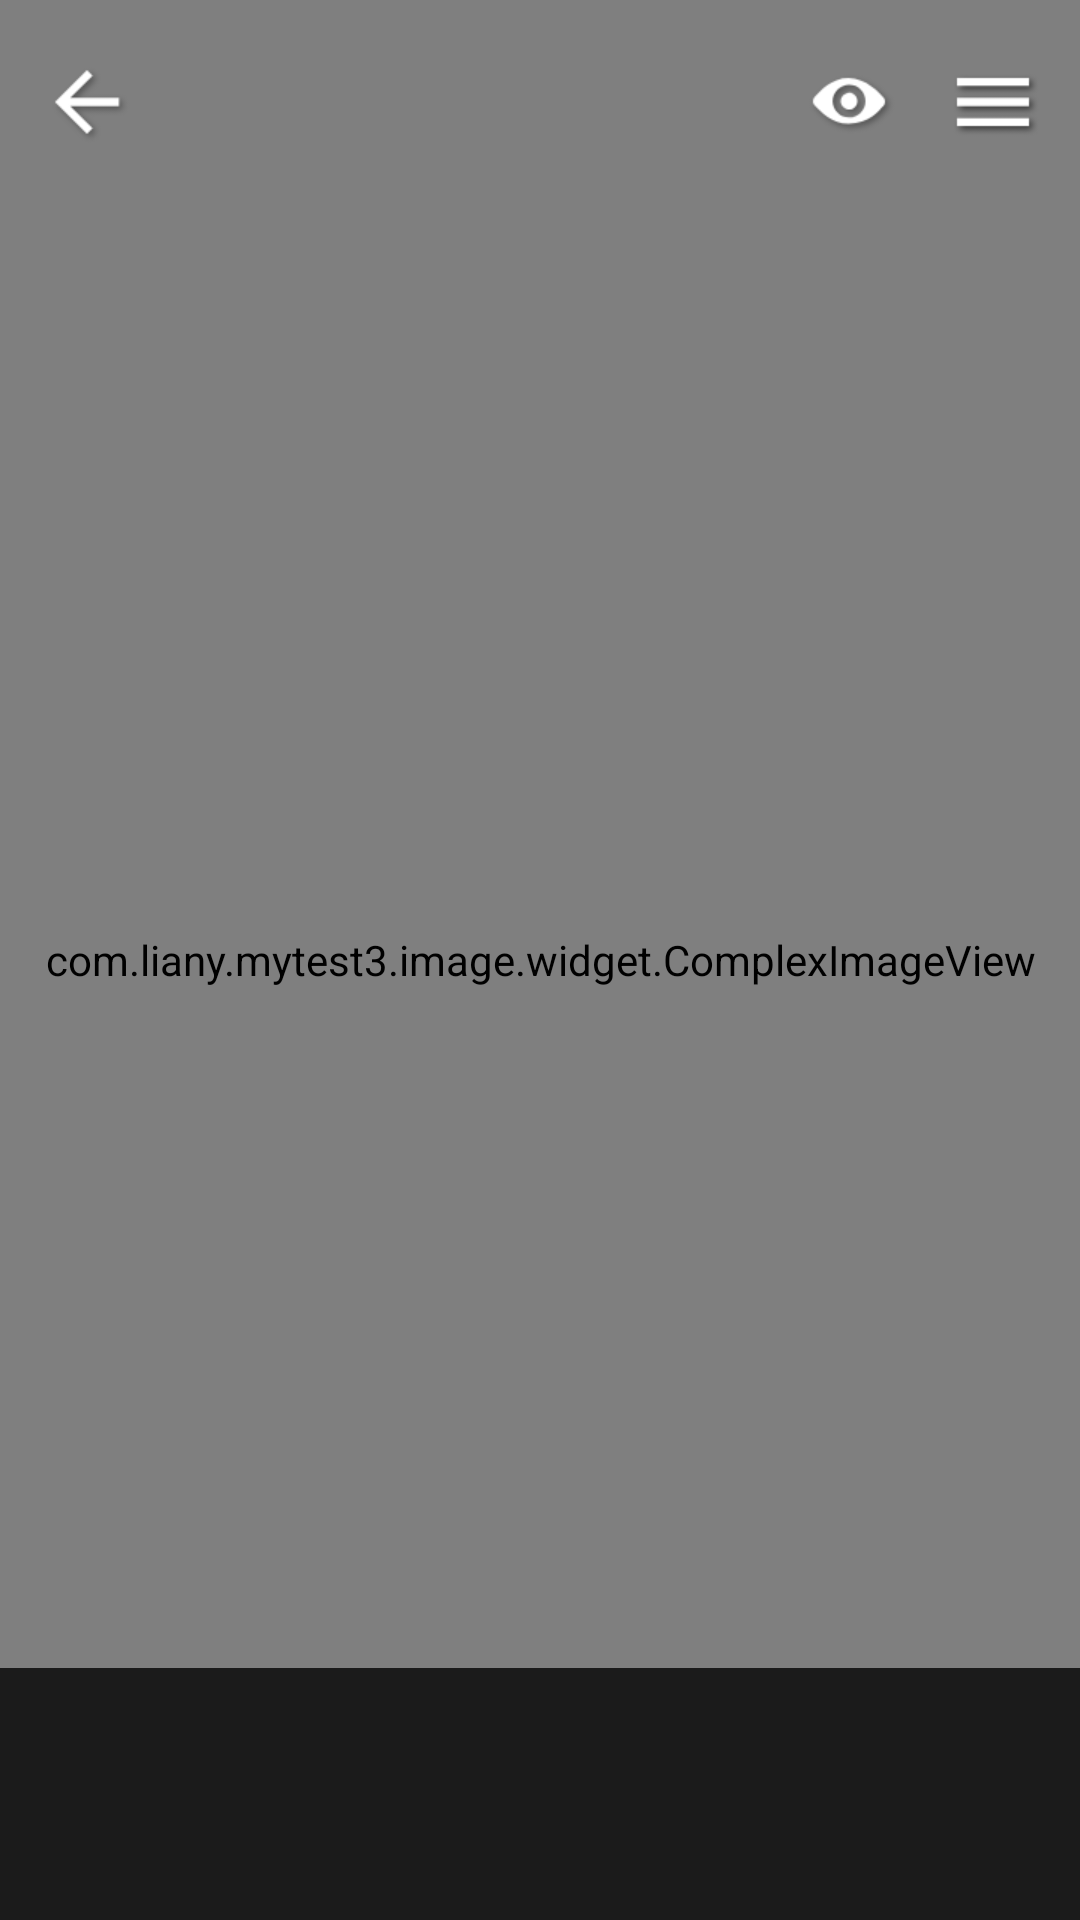

Screen size 1080px x 1920px. Icon name, then its box in pixels as (x1, y1, x2, y2):
eye: (813, 78, 887, 126)
